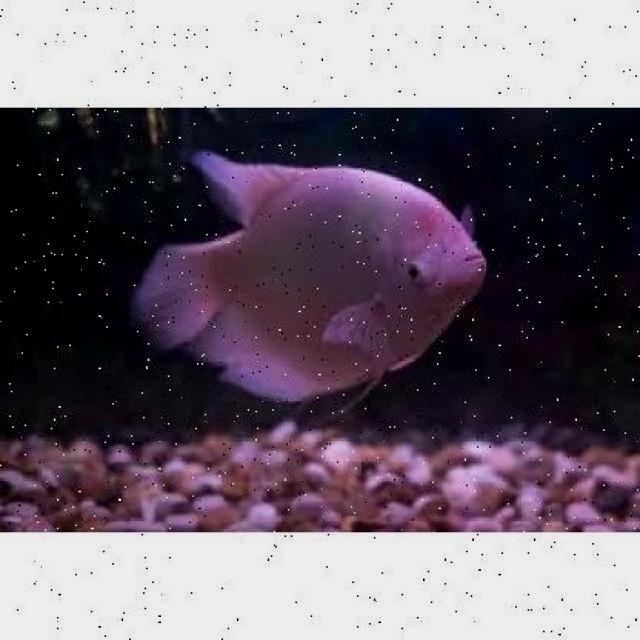gurame: (136, 149, 490, 408)
